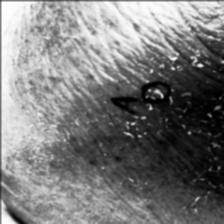Potentially Malignant Skin Tumors: (110, 38, 224, 206)
